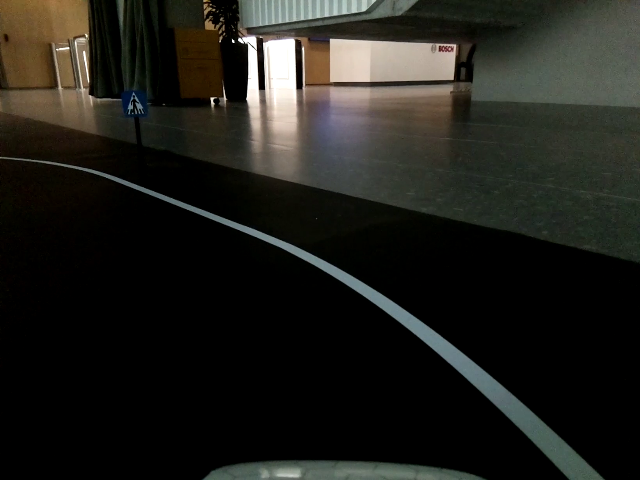pedestrians: (122, 90, 147, 117)
